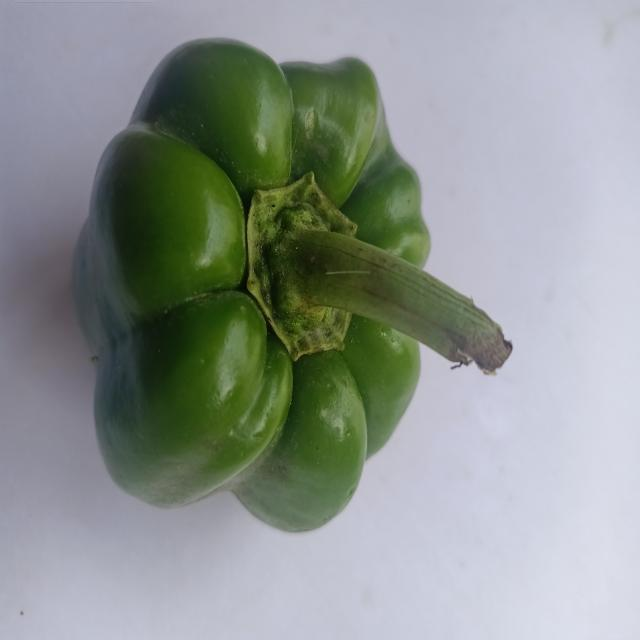Capsicum: (62, 24, 514, 564)
